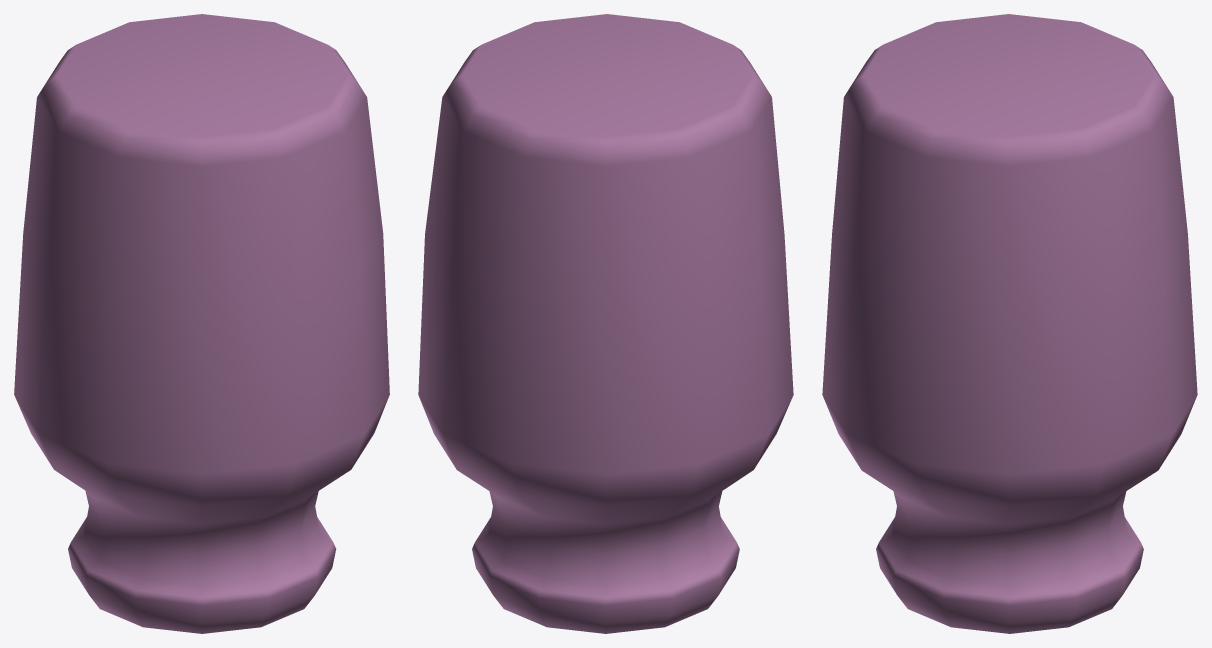
File: Friday_Bottle.fbx
3 views of the same model, side by side, from view 1: azimuth 30°, elevation 25°; view 2: azimuth 150°, elevation 25°; view 3: azimuth 270°, elevation 25° (orthographic).
Visible parts, largest first — view 1: Bottle; view 2: Bottle; view 3: Bottle.
Part boxes in pixels (left/top/right/bottom): Bottle: left=14, top=14, right=389, bottom=633; Bottle: left=418, top=14, right=793, bottom=633; Bottle: left=822, top=14, right=1197, bottom=633.
Size of the model in its own units: 41.18 by 61.58 by 41.18.
